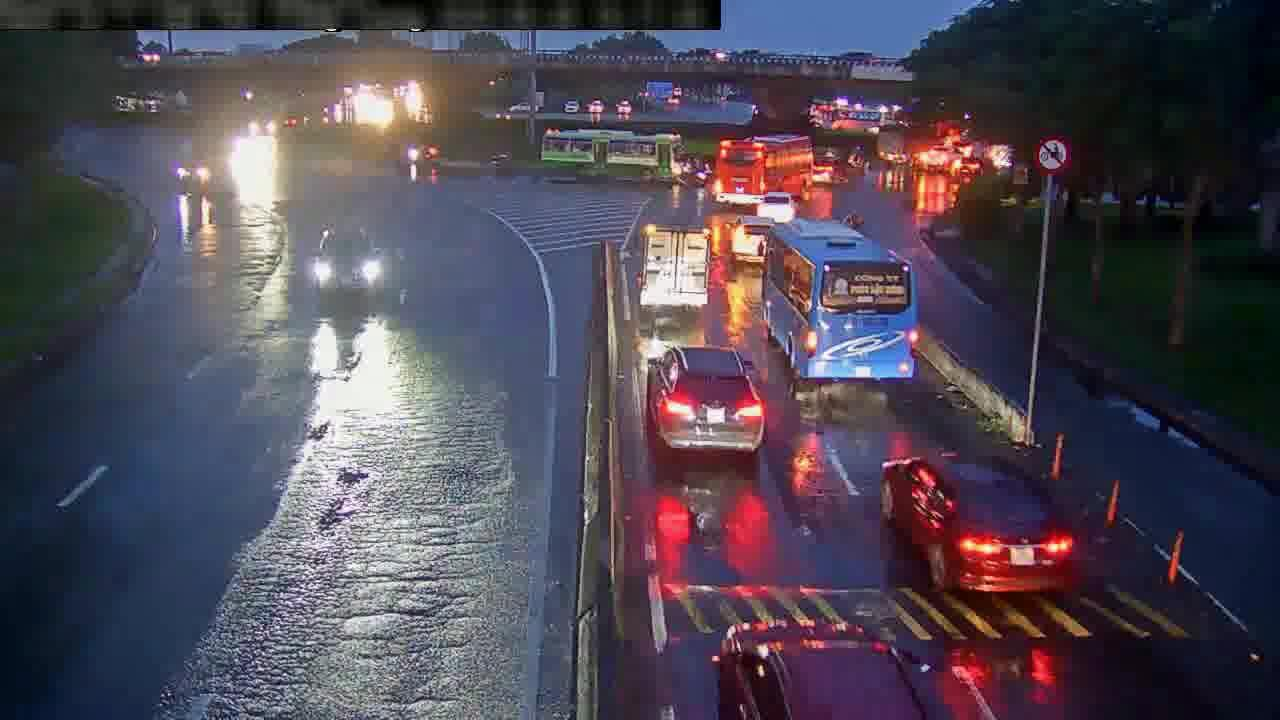14: (758, 219, 919, 390), (537, 123, 683, 183), (712, 130, 815, 203)
8: (636, 215, 712, 321)
container: (874, 451, 1080, 596), (715, 622, 934, 720), (648, 349, 762, 458), (313, 222, 379, 304), (728, 213, 775, 266), (755, 191, 803, 221)
